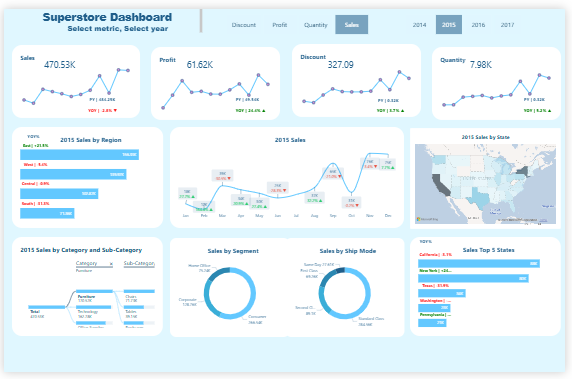

The dashboard page shown, as its layout file describes it:
{"tool":"powerbi","page":{"name":"Page 2","canvas":[1700,1100],"ordinal":0},"visuals":[{"type":"advancedSlicerVisual","fields":{"Values":["DateTable.Date.Variation.Date Hierarchy.Year"]},"box":[1184.3,1.6,419.6,88.2],"z":0},{"type":"advancedSlicerVisual","fields":{"Values":["Metric Selection.Metric"]},"box":[643.5,1.6,498,88.2],"z":1000},{"type":"textbox","box":[0,0,600.8,80.5],"z":2000},{"type":"filledMap","fields":{"Category":["Sample - Superstore.State"]},"box":[1231.3,360,456.7,306],"z":3000},{"type":"lineChart","title":"Sales","fields":{"Category":["DateTable.Month"],"Y":["Sum(Sample - Superstore.Sales)"]},"box":[24.2,108.3,387.9,221.2],"z":4000},{"type":"card","fields":{"Values":["Sum(Sample - Superstore.Sales)"]},"box":[118.2,154.5,100,30.3],"z":5000},{"type":"lineChart","title":"Profit","fields":{"Category":["DateTable.Month"],"Y":["Sum(Sample - Superstore.Profit)"]},"box":[446.5,115,390.9,221.2],"z":6000},{"type":"lineChart","title":"Discount","fields":{"Category":["DateTable.Month"],"Y":["Sum(Sample - Superstore.Discount)"]},"box":[871.7,106.1,390.9,221.2],"z":7000},{"type":"lineChart","title":"Quantity","fields":{"Category":["DateTable.Month"],"Y":["Sum(Sample - Superstore.Quantity)"]},"box":[1297,114.3,390.9,221.2],"z":8000},{"type":"card","fields":{"Values":["Sample - Superstore.Total_Profit"]},"box":[543.4,154.5,100,30.3],"z":9000},{"type":"card","fields":{"Values":["Sum(Sample - Superstore.Discount)"]},"box":[968.7,154.5,100,30.3],"z":10000},{"type":"card","fields":{"Values":["Sum(Sample - Superstore.Quantity)"]},"box":[1393.9,154.5,100,30.3],"z":11000},{"type":"barChart","fields":{"Category":["Sample - Superstore.Region"],"Y":["Sample - Superstore.Selected Metric Value"]},"box":[23.9,357.3,458.2,306],"z":12000},{"type":"lineChart","fields":{"Category":["DateTable.Month"],"Y":["Sample - Superstore.Selected Metric Value"]},"box":[502.2,357.1,709,306],"z":13000},{"type":"card","fields":{"Values":["Sample - Superstore.Sales PY"]},"box":[249.4,261.2,100,31.8],"z":14000},{"type":"card","fields":{"Values":["Sample - Superstore.Sales YoY Display"]},"box":[240.2,293.1,120,34],"z":15000},{"type":"card","fields":{"Values":["Sample - Superstore.Profit PY"]},"box":[688.2,260,100,32.9],"z":16000},{"type":"card","fields":{"Values":["Sample - Superstore.Discount PY"]},"box":[1114.1,260,100,34.1],"z":17000},{"type":"card","fields":{"Values":["Sample - Superstore.Discount PY"]},"box":[1557.6,260,100,32.9],"z":18000},{"type":"card","fields":{"Values":["Sample - Superstore.Profit YoY Display"]},"box":[687.7,293.8,119.8,33.3],"z":19000},{"type":"card","fields":{"Values":["Sample - Superstore.Discount YoY Display"]},"box":[1113.6,292.6,119.8,33.3],"z":20000},{"type":"card","fields":{"Values":["Sample - Superstore.Quantity YoY Display"]},"box":[1558,293.8,119.8,33.3],"z":21000},{"type":"card","fields":{"Values":["Sample - Superstore.Regional Card Selected Metric YoY Display"]},"box":[46,405,100,20.1],"z":22000},{"type":"card","fields":{"Values":["Sample - Superstore.Regional Card Selected Metric YoY Display"]},"box":[46,464,100,20.1],"z":23000},{"type":"card","fields":{"Values":["Sample - Superstore.Regional Card Selected Metric YoY Display"]},"box":[46,522.3,100,20.1],"z":24000},{"type":"card","fields":{"Values":["Sample - Superstore.Regional Card Selected Metric YoY Display"]},"box":[46,582,100,20.1],"z":25000},{"type":"decompositionTreeVisual","fields":{"ExplainBy":["Sample - Superstore.Category","Sample - Superstore.Sub-Category"],"Analyze":["Sample - Superstore.Selected Metric Value"]},"box":[25.4,691,456.7,300],"z":26000},{"type":"textbox","box":[45.9,375.3,89.4,18.8],"z":27000},{"type":"donutChart","fields":{"Category":["Sample - Superstore.Segment"],"Y":["Sample - Superstore.Sales and Profit Metric Value"]},"box":[504,692.5,362.7,300],"z":28000},{"type":"donutChart","fields":{"Category":["Sample - Superstore.Ship Mode"],"Y":["Sample - Superstore.Sales and Profit Metric Value"]},"box":[852.4,692.9,361.9,300],"z":29000},{"type":"barChart","title":"Sales Top 5 States","fields":{"Y":["Sum(Sample - Superstore.Sales)"],"Category":["Sample - Superstore.State"]},"box":[1231,690.5,457.1,300],"z":30000},{"type":"textbox","box":[1232.9,692.9,90.6,22.4],"z":31000},{"type":"card","fields":{"Values":["Sample - Superstore.State Card Selected Metric YoY Display"]},"box":[1256.1,737.4,100,20],"z":32000},{"type":"card","fields":{"Values":["Sample - Superstore.State Card Selected Metric YoY Display"]},"box":[1256.1,783.5,100,20],"z":33000},{"type":"card","fields":{"Values":["Sample - Superstore.State Card Selected Metric YoY Display"]},"box":[1256.1,830.2,100,20],"z":34000},{"type":"card","fields":{"Values":["Sample - Superstore.State Card Selected Metric YoY Display"]},"box":[1256.1,874.8,100,20],"z":35000},{"type":"card","fields":{"Values":["Sample - Superstore.State Card Selected Metric YoY Display"]},"box":[1256.1,919.4,100,20.1],"z":36000}]}

Visuals, with their boxes in screenshot pixels (x1, y1, x2, y2), scaled from the page's 1700x1100 canvas onto the 572x379 screenshot:
advancedSlicerVisual - DateTable.Date.Variation.Date Hierarchy.Year: l=398, t=1, r=540, b=31
advancedSlicerVisual - Metric Selection.Metric: l=217, t=1, r=384, b=31
textbox: l=0, t=0, r=202, b=28
filledMap - Sample - Superstore.State: l=414, t=124, r=568, b=229
"Sales" lineChart: l=8, t=37, r=139, b=114
card - Sum(Sample - Superstore.Sales): l=40, t=53, r=73, b=64
"Profit" lineChart: l=150, t=40, r=282, b=116
"Discount" lineChart: l=293, t=37, r=425, b=113
"Quantity" lineChart: l=436, t=39, r=568, b=116
card - Sample - Superstore.Total_Profit: l=183, t=53, r=216, b=64
card - Sum(Sample - Superstore.Discount): l=326, t=53, r=360, b=64
card - Sum(Sample - Superstore.Quantity): l=469, t=53, r=503, b=64
barChart - Sample - Superstore.Region x Sample - Superstore.Selected Metric Value: l=8, t=123, r=162, b=229
lineChart - DateTable.Month x Sample - Superstore.Selected Metric Value: l=169, t=123, r=408, b=228
card - Sample - Superstore.Sales PY: l=84, t=90, r=118, b=101
card - Sample - Superstore.Sales YoY Display: l=81, t=101, r=121, b=113
card - Sample - Superstore.Profit PY: l=232, t=90, r=265, b=101
card - Sample - Superstore.Discount PY: l=375, t=90, r=409, b=101
card - Sample - Superstore.Discount PY: l=524, t=90, r=558, b=101
card - Sample - Superstore.Profit YoY Display: l=231, t=101, r=272, b=113
card - Sample - Superstore.Discount YoY Display: l=375, t=101, r=415, b=112
card - Sample - Superstore.Quantity YoY Display: l=524, t=101, r=565, b=113
card - Sample - Superstore.Regional Card Selected Metric YoY Display: l=15, t=140, r=49, b=146
card - Sample - Superstore.Regional Card Selected Metric YoY Display: l=15, t=160, r=49, b=167
card - Sample - Superstore.Regional Card Selected Metric YoY Display: l=15, t=180, r=49, b=187
card - Sample - Superstore.Regional Card Selected Metric YoY Display: l=15, t=201, r=49, b=207
decompositionTreeVisual - Sample - Superstore.Category x Sample - Superstore.Sub-Category: l=9, t=238, r=162, b=341
textbox: l=15, t=129, r=46, b=136
donutChart - Sample - Superstore.Segment x Sample - Superstore.Sales and Profit Metric Value: l=170, t=239, r=292, b=342
donutChart - Sample - Superstore.Ship Mode x Sample - Superstore.Sales and Profit Metric Value: l=287, t=239, r=409, b=342
"Sales Top 5 States" barChart: l=414, t=238, r=568, b=341
textbox: l=415, t=239, r=445, b=246
card - Sample - Superstore.State Card Selected Metric YoY Display: l=423, t=254, r=456, b=261
card - Sample - Superstore.State Card Selected Metric YoY Display: l=423, t=270, r=456, b=277
card - Sample - Superstore.State Card Selected Metric YoY Display: l=423, t=286, r=456, b=293
card - Sample - Superstore.State Card Selected Metric YoY Display: l=423, t=301, r=456, b=308
card - Sample - Superstore.State Card Selected Metric YoY Display: l=423, t=317, r=456, b=324
